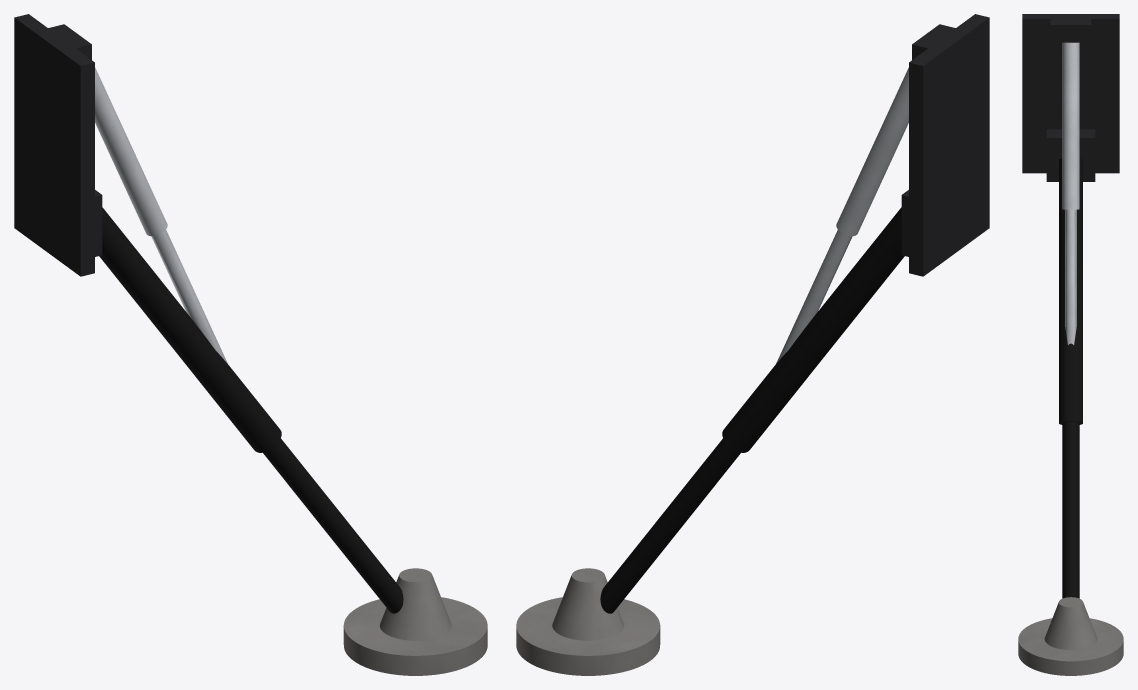
Rendered from stage11_landing_leg_l_deployed.glb.
3 renders of one model, left to right at view 1: azimuth 30°, elevation 25°; view 2: azimuth 150°, elevation 25°; view 3: azimuth 270°, elevation 25°, orthographic. The views are drawn at different scales.
Parts seen in each view (by area): view 1: bracket, primary_strut, footpad, telescoping_strut; view 2: bracket, primary_strut, footpad, telescoping_strut; view 3: bracket, primary_strut, footpad, telescoping_strut.
Part boxes in pixels (<box>): bracket: <box>14,14,102,276</box>; primary_strut: <box>99,207,403,613</box>; footpad: <box>343,568,487,675</box>; telescoping_strut: <box>95,67,227,363</box>; bracket: <box>901,14,989,276</box>; primary_strut: <box>600,207,904,613</box>; footpad: <box>516,568,660,675</box>; telescoping_strut: <box>776,67,908,363</box>; bracket: <box>1022,14,1119,181</box>; primary_strut: <box>1059,158,1082,598</box>; footpad: <box>1018,597,1123,675</box>; telescoping_strut: <box>1062,42,1079,344</box>.
Bounding box in the file's own units: 3.37 × 5.19 × 0.9747.
4 materials, 2 textured.
